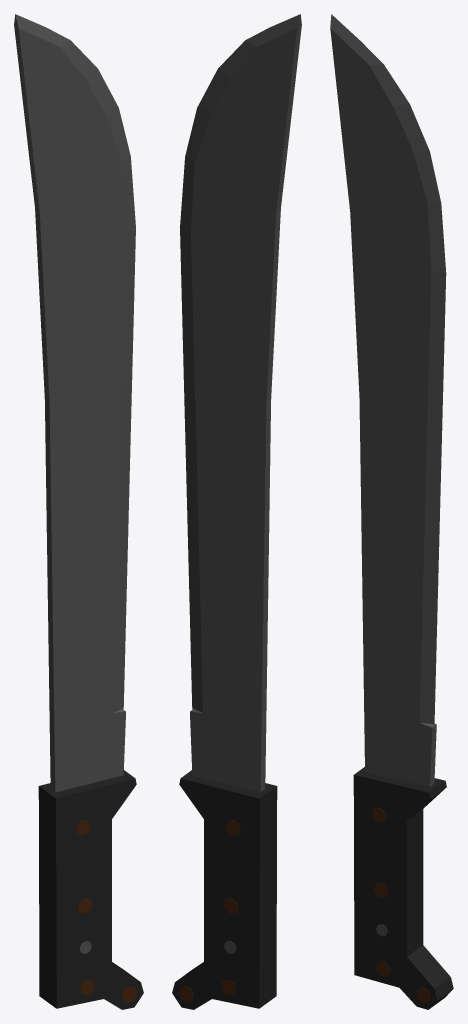
Rendered from Machete.fbx.
3 views of the same model, side by side, from view 1: azimuth 30°, elevation 25°; view 2: azimuth 150°, elevation 25°; view 3: azimuth 330°, elevation 25° (orthographic). The views are drawn at different scales.
Parts seen in each view (by area): view 1: Cube; view 2: Cube; view 3: Cube.
Part boxes in pixels (x1,y1,x2,y2): Cube: [14, 14, 143, 1009]; Cube: [172, 14, 301, 1009]; Cube: [330, 14, 453, 1009].
Size of the model in its own units: 11.9 by 95.45 by 3.03.
